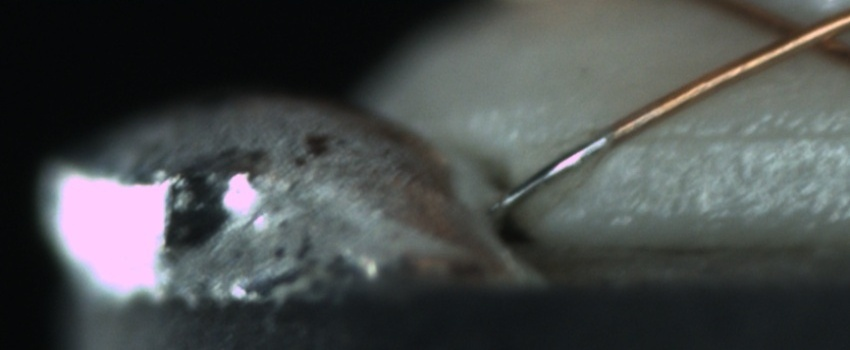CL: (749, 2, 846, 65)
DL: (614, 106, 844, 169)
TS: (493, 128, 611, 213)
TTCW: (497, 103, 647, 212)
